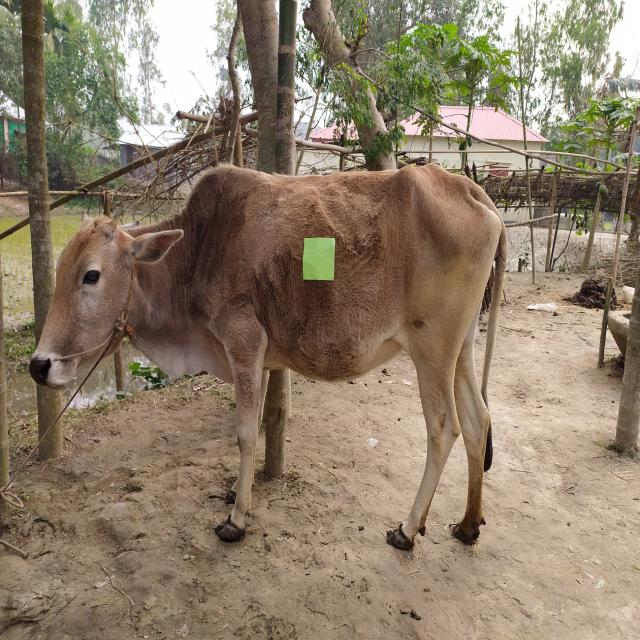badan_sapi: (228, 169, 486, 385)
sapi: (29, 147, 512, 572)
